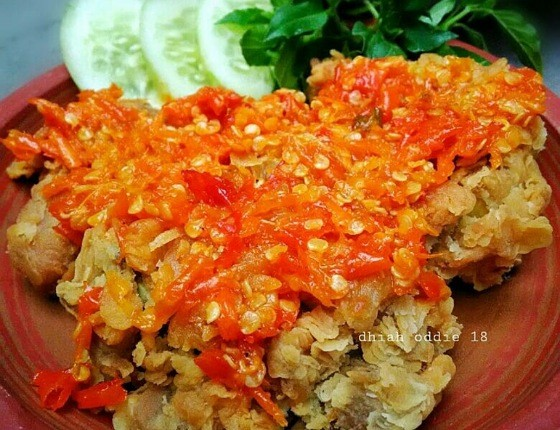ayam_geprek: (14, 70, 559, 426)
